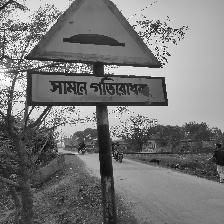Speed-breaker: (24, 0, 165, 108)
